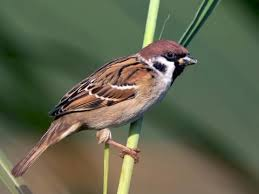hsparrow: (8, 37, 204, 179)
